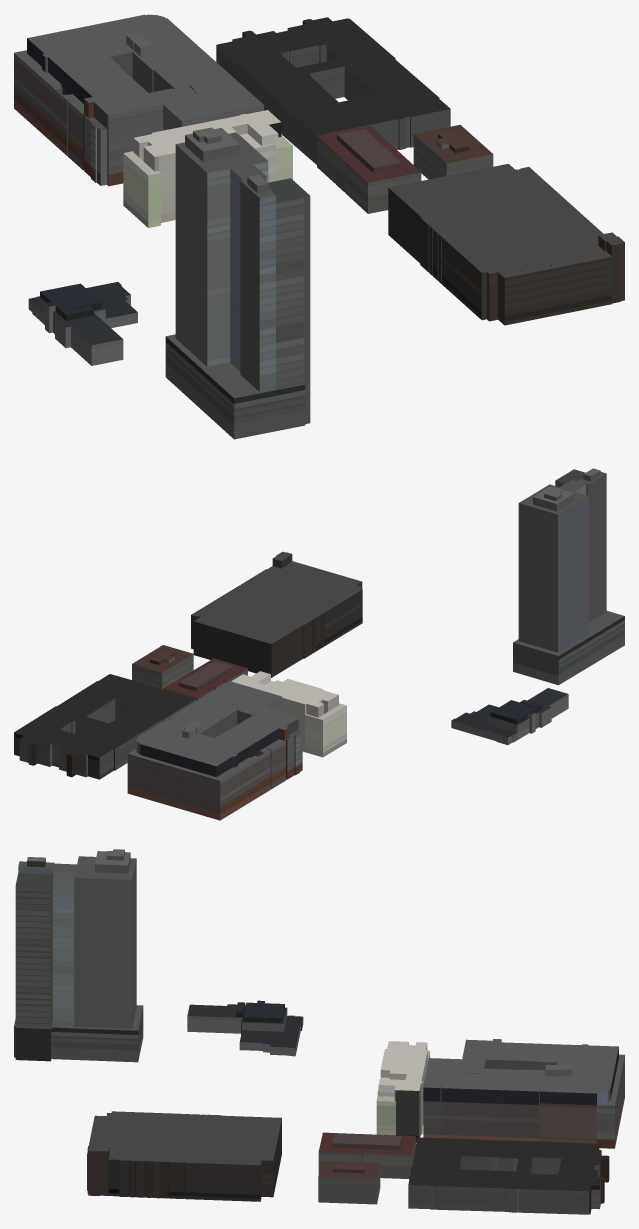
Rendered from t_-2_-2.far.glb.
3 views of the same model, one above another, from view 1: azimuth 30°, elevation 25°; view 2: azimuth 150°, elevation 25°; view 3: azimuth 270°, elevation 25° (orthographic). The views are drawn at different scales.
Visible parts, largest first — view 1: opaque; view 2: opaque; view 3: opaque.
Boxes of the visible parts, left/top/right/bottom form: opaque: left=14, top=14, right=624, bottom=439; opaque: left=14, top=468, right=624, bottom=820; opaque: left=14, top=849, right=624, bottom=1214.
Bounding box in the file's own units: 214 × 99.1 × 284.
Materials: 1 (1 with a texture image).
